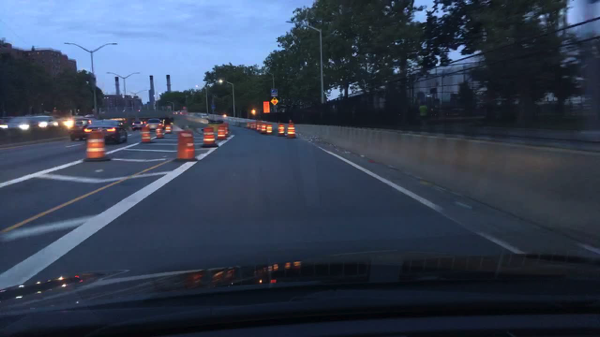car: (84, 121, 128, 142), (0, 116, 39, 131), (70, 120, 93, 141), (37, 116, 59, 129), (65, 116, 87, 128), (147, 119, 162, 130), (132, 121, 144, 129), (199, 114, 209, 120), (175, 111, 183, 116)
person: (417, 102, 429, 130)
traffic sign: (263, 102, 270, 114), (270, 88, 278, 97), (271, 98, 278, 107)
